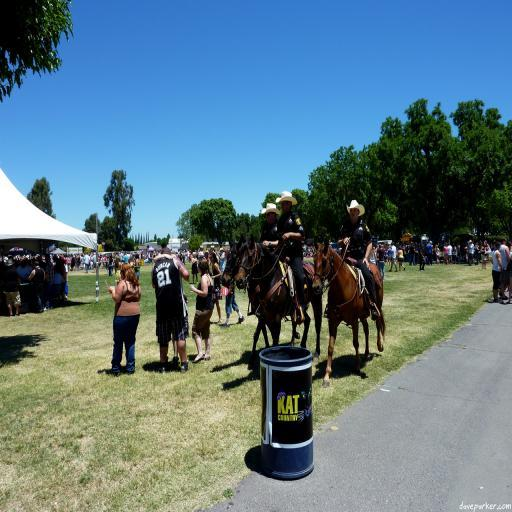Horse: (235, 234, 325, 362), (311, 237, 387, 387), (220, 237, 301, 357)
